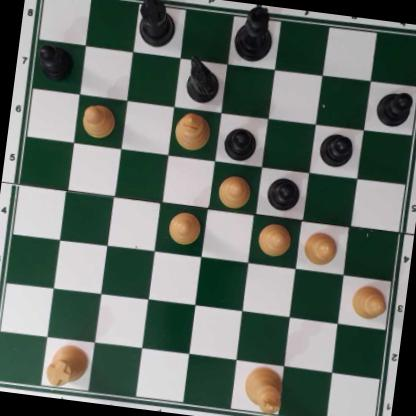black-king: (232, 3, 277, 66)
black-knight: (183, 55, 222, 102)
black-pawn: (35, 39, 76, 82), (374, 88, 414, 129), (222, 122, 260, 162), (317, 130, 355, 169), (265, 174, 302, 213)
black-rook: (134, 0, 181, 48)
white-bishop: (174, 110, 211, 152)
white-king: (241, 363, 285, 416)
white-pawn: (347, 281, 390, 322), (302, 228, 340, 268), (80, 101, 118, 141), (214, 172, 254, 209), (256, 219, 293, 259), (165, 210, 202, 246)
white-rook: (45, 341, 92, 389)
